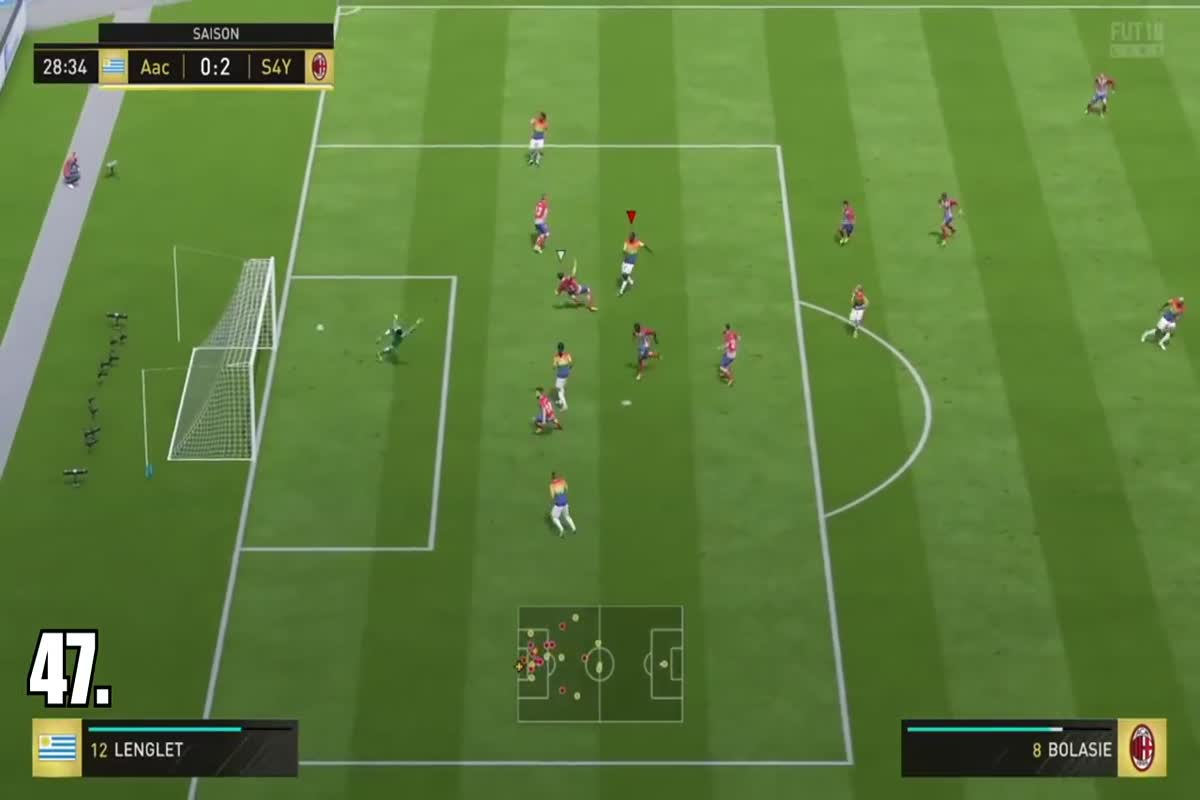ball: (305, 315, 335, 340)
